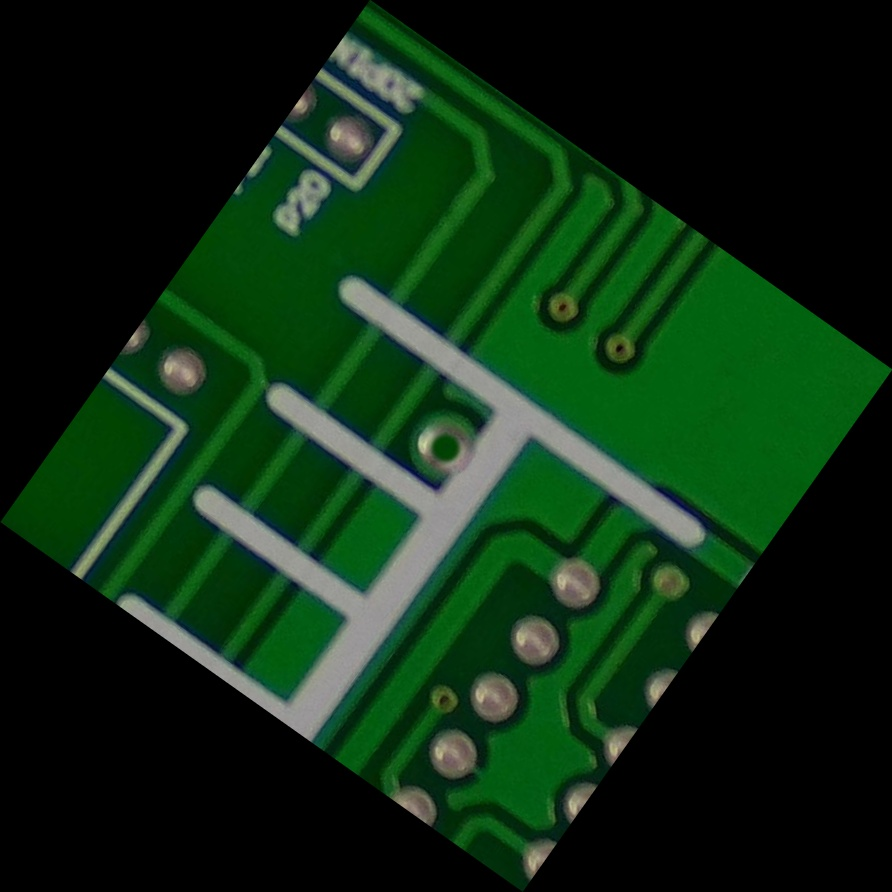missing_hole: (401, 401, 491, 491)
